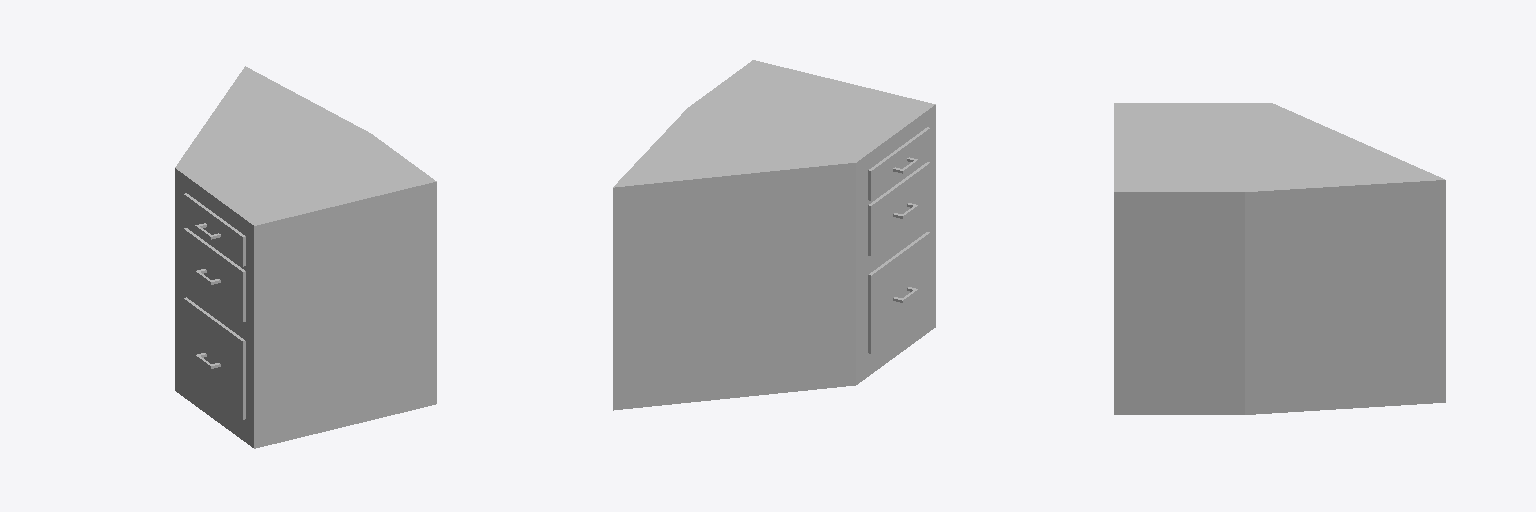
The model's file is kitchenTopRight.obj.
3 views of the same model, side by side, from view 1: azimuth 30°, elevation 25°; view 2: azimuth 150°, elevation 25°; view 3: azimuth 270°, elevation 25° (orthographic).
Parts seen in each view (by area): view 1: Top_Right_Drawer_geo1 group1; view 2: Top_Right_Drawer_geo1 group1; view 3: Top_Right_Drawer_geo1 group1.
Boxes of the visible parts, x1=… form: Top_Right_Drawer_geo1 group1: x1=175, y1=66, x2=436, y2=448; Top_Right_Drawer_geo1 group1: x1=613, y1=60, x2=935, y2=410; Top_Right_Drawer_geo1 group1: x1=1114, y1=103, x2=1445, y2=414.
Size of the model in its own units: 96.83 by 105 by 143.